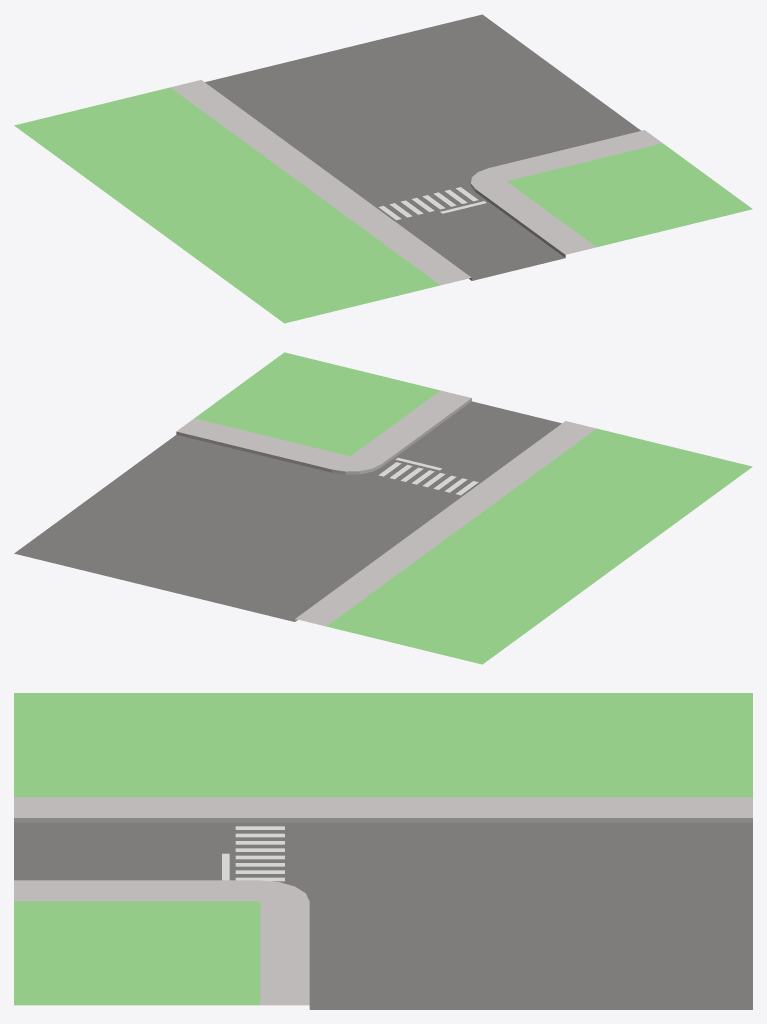
File: tile_parking_lot_entry.fbx
3 renders of one model, top to bottom at view 1: azimuth 30°, elevation 25°; view 2: azimuth 150°, elevation 25°; view 3: azimuth 270°, elevation 25°, orthographic. The views are drawn at different scales.
Visible parts, largest first — view 1: tile_road_intersection_t_nb.001; view 2: tile_road_intersection_t_nb.001; view 3: tile_road_intersection_t_nb.001.
Part boxes in pixels (x1,y1,x2,y2): tile_road_intersection_t_nb.001: (14,14,752,323); tile_road_intersection_t_nb.001: (14,352,752,664); tile_road_intersection_t_nb.001: (14,693,752,1009).
Bounding box in the file's own units: 3000 × 20 × 3000.
